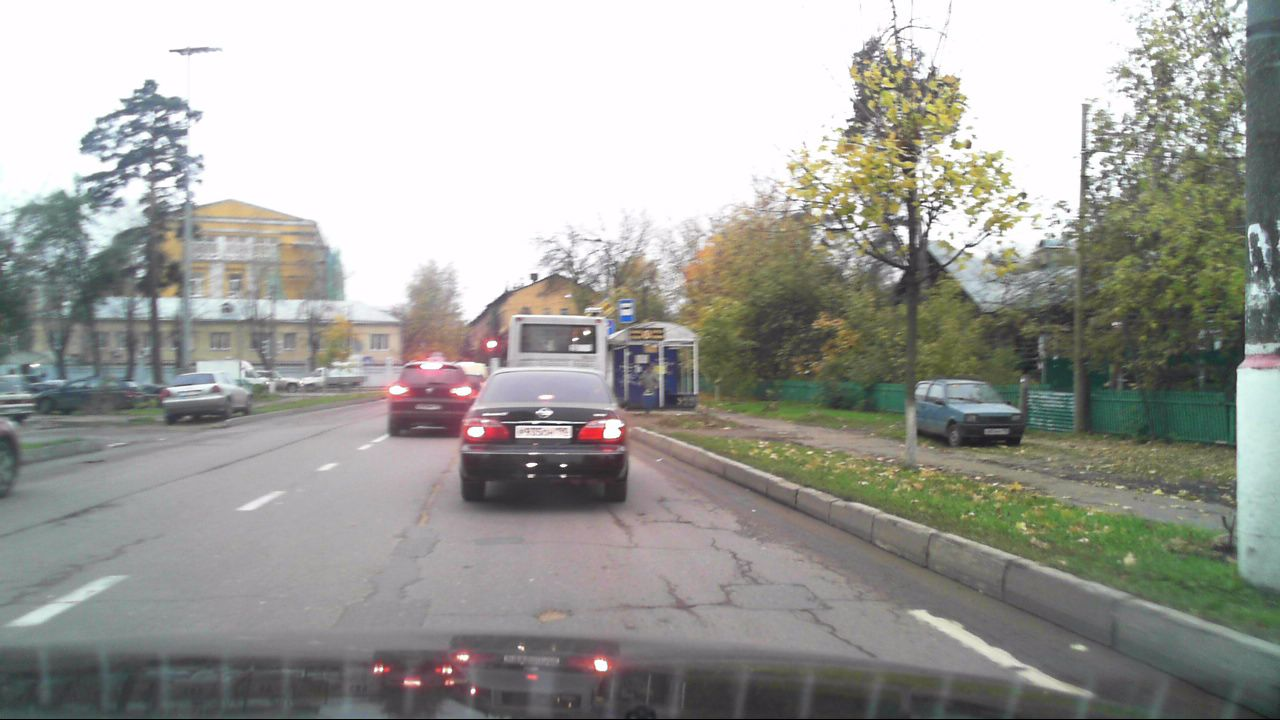main road: (598, 296, 616, 315)
